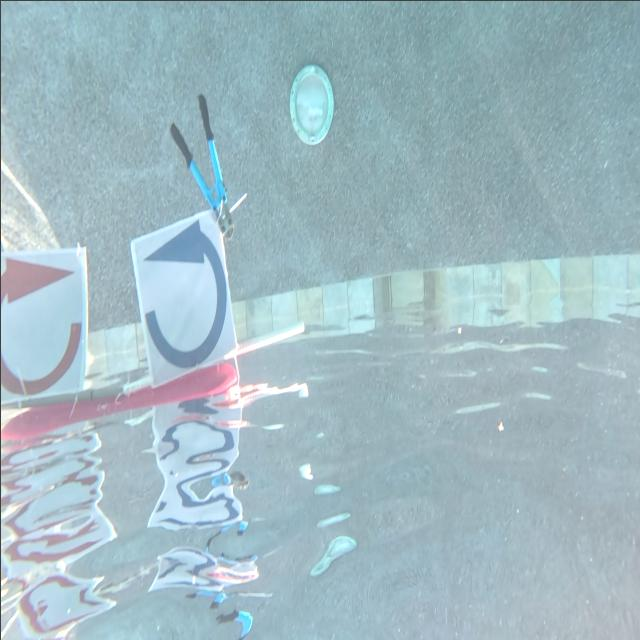blue_side: (141, 218, 229, 368)
red_side: (0, 254, 82, 391)
